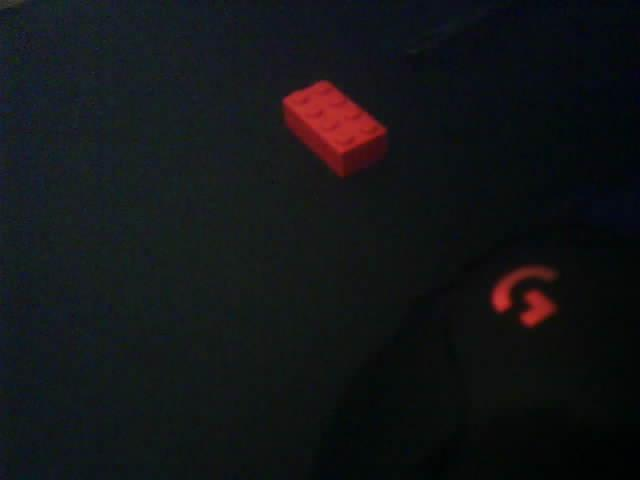lego: (280, 78, 389, 179)
